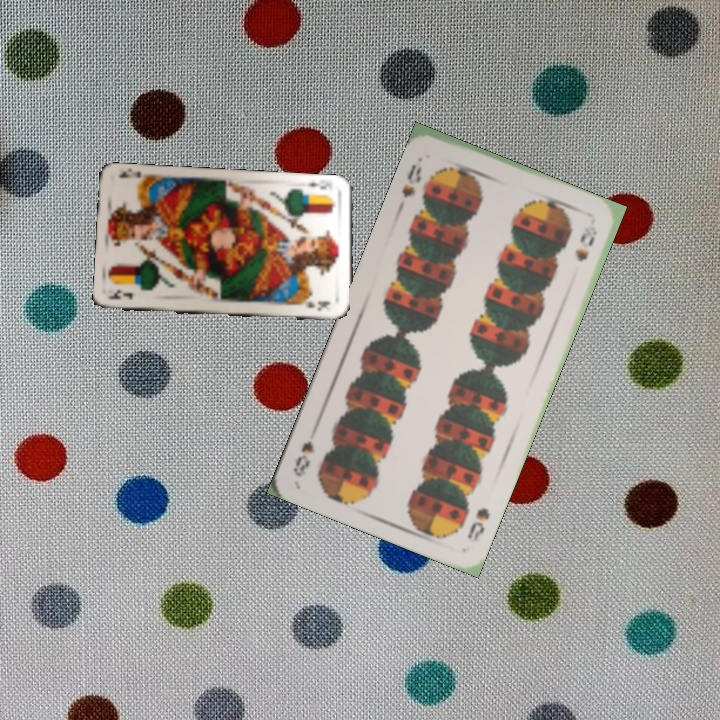EK: (302, 179, 334, 195), (107, 287, 136, 302)
S8: (463, 503, 493, 544), (397, 160, 425, 201)
